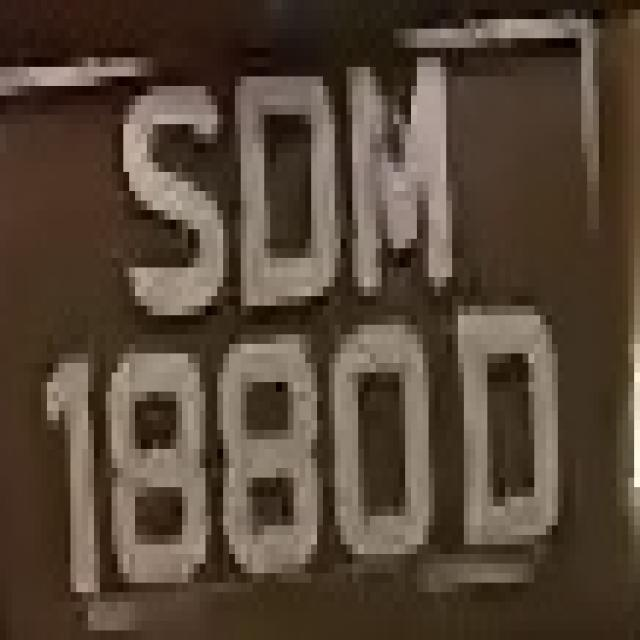0: (340, 306, 434, 582)
1: (47, 325, 106, 621)
8: (205, 315, 329, 592), (106, 325, 211, 621)
D: (446, 286, 564, 564), (217, 67, 341, 306)
M: (329, 38, 464, 325)
S: (106, 77, 223, 316)
